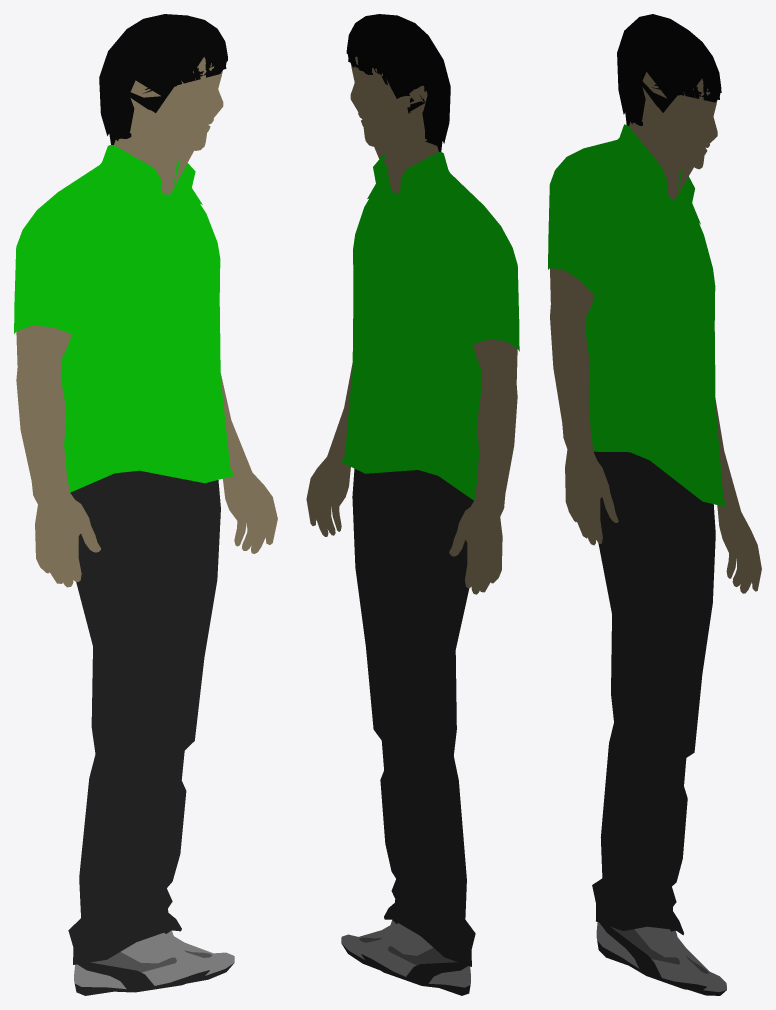
Rendered from human.obj.
The picture shows the model from 3 angles, left to right: view 1: azimuth 30°, elevation 25°; view 2: azimuth 150°, elevation 25°; view 3: azimuth 330°, elevation 25°; orthographic projection.
Parts seen in each view (by area): view 1: Mesh2 SangShirt1 Sang1 Model, Mesh3 SangPants1 Sang1 Model, Mesh5 Sang1 Model, Mesh1 SangHair1 Sang1 Model, Mesh7 Sang1 Model, Mesh4 Sang1 Model, Mesh6 Sang1 Model; view 2: Mesh2 SangShirt1 Sang1 Model, Mesh3 SangPants1 Sang1 Model, Mesh5 Sang1 Model, Mesh1 SangHair1 Sang1 Model, Mesh7 Sang1 Model, Mesh4 Sang1 Model, Mesh6 Sang1 Model; view 3: Mesh2 SangShirt1 Sang1 Model, Mesh3 SangPants1 Sang1 Model, Mesh5 Sang1 Model, Mesh1 SangHair1 Sang1 Model, Mesh7 Sang1 Model, Mesh4 Sang1 Model, Mesh6 Sang1 Model.
Part boxes in pixels (left/top/right/bottom): Mesh2 SangShirt1 Sang1 Model: left=14, top=145, right=233, bottom=492; Mesh3 SangPants1 Sang1 Model: left=68, top=470, right=220, bottom=964; Mesh5 Sang1 Model: left=16, top=325, right=100, bottom=587; Mesh1 SangHair1 Sang1 Model: left=99, top=14, right=227, bottom=144; Mesh7 Sang1 Model: left=114, top=57, right=223, bottom=195; Mesh4 Sang1 Model: left=74, top=930, right=234, bottom=995; Mesh6 Sang1 Model: left=220, top=373, right=277, bottom=553; Mesh2 SangShirt1 Sang1 Model: left=342, top=152, right=519, bottom=500; Mesh3 SangPants1 Sang1 Model: left=352, top=468, right=475, bottom=966; Mesh5 Sang1 Model: left=449, top=339, right=517, bottom=594; Mesh1 SangHair1 Sang1 Model: left=346, top=14, right=450, bottom=151; Mesh7 Sang1 Model: left=350, top=56, right=438, bottom=193; Mesh4 Sang1 Model: left=341, top=920, right=470, bottom=995; Mesh6 Sang1 Model: left=306, top=363, right=352, bottom=536; Mesh2 SangShirt1 Sang1 Model: left=548, top=124, right=726, bottom=507; Mesh3 SangPants1 Sang1 Model: left=592, top=451, right=715, bottom=935; Mesh5 Sang1 Model: left=550, top=268, right=618, bottom=545; Mesh1 SangHair1 Sang1 Model: left=617, top=14, right=721, bottom=125; Mesh7 Sang1 Model: left=629, top=72, right=717, bottom=200; Mesh4 Sang1 Model: left=596, top=922, right=726, bottom=995; Mesh6 Sang1 Model: left=715, top=400, right=761, bottom=593.
Size of the model in its own units: 17.84 by 69.24 by 3.1.
